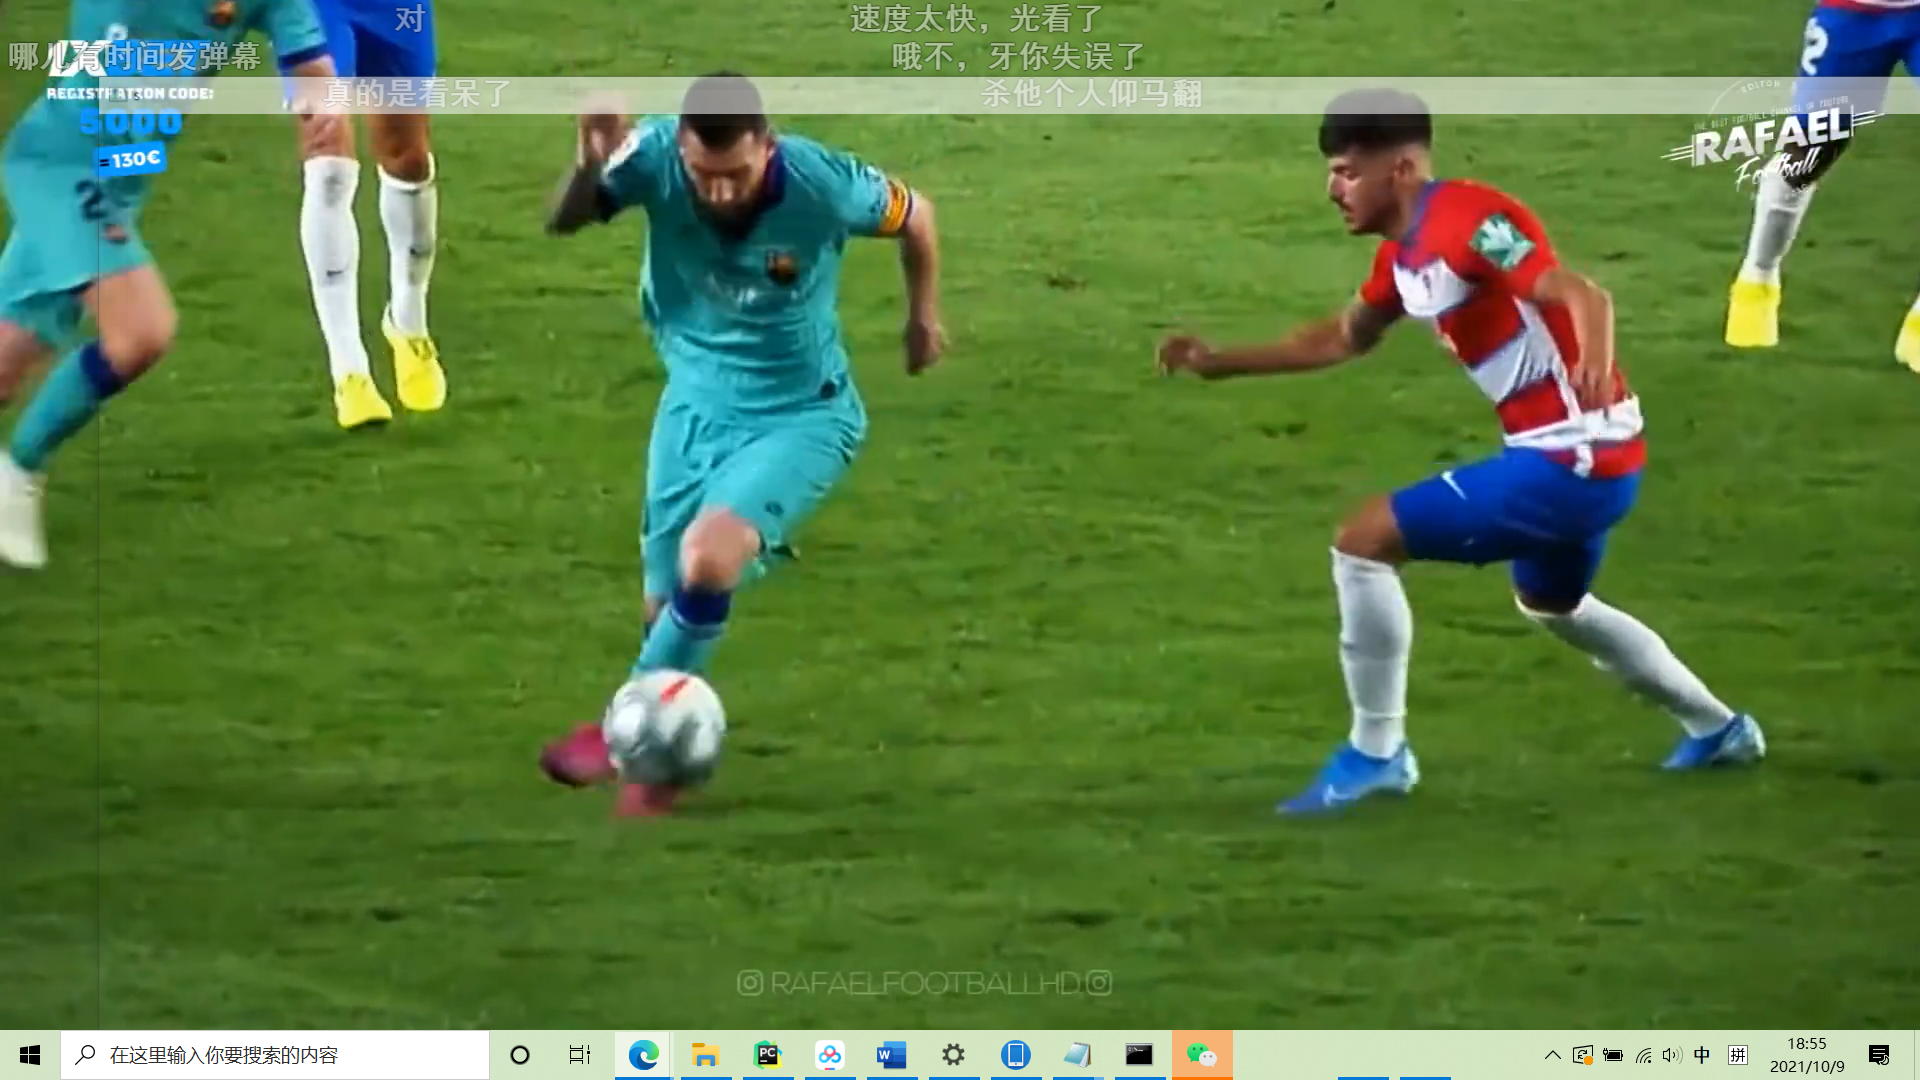ft: (600, 663, 723, 814)
